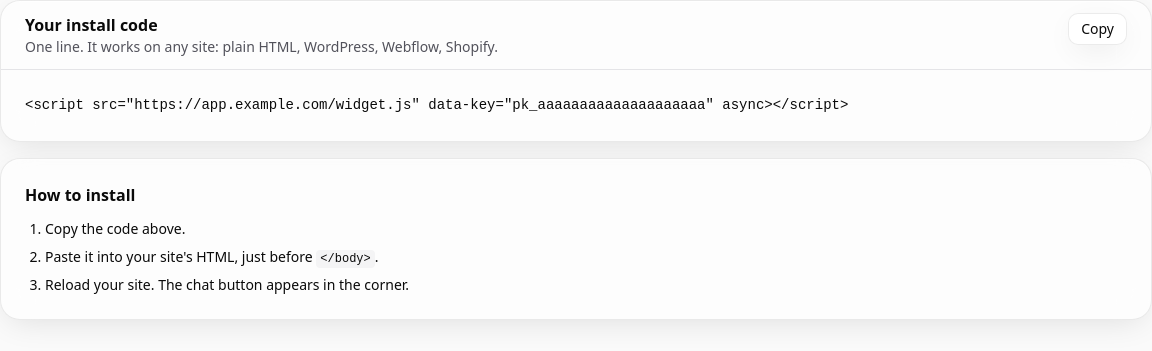
InstallPanel › Copy writes the exact snippet to the clipboard and says Copied
This screenshot has width=1152, height=351.
Step 1. Click the button "Copy" → (1098, 29), box [1068, 13, 1127, 45]
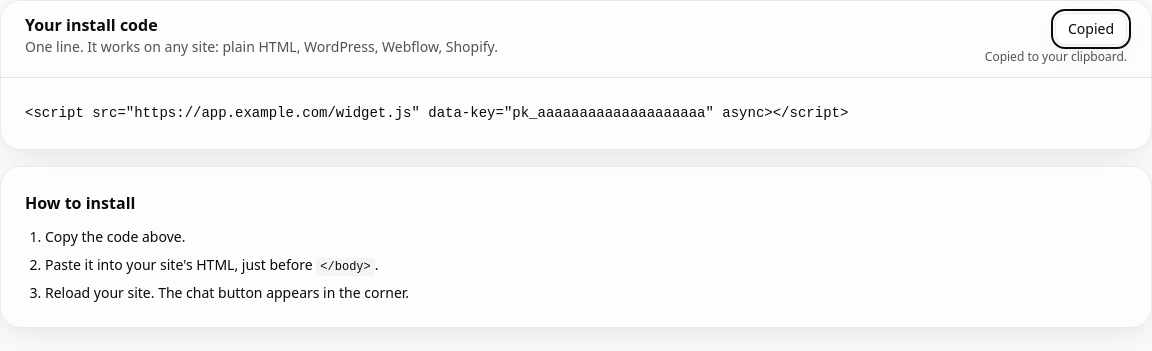
Expected: the button "Copied" is shown, [1055, 13, 1127, 45]
Expected: the text "Copied to your clipboard." is shown, [985, 49, 1127, 65]
